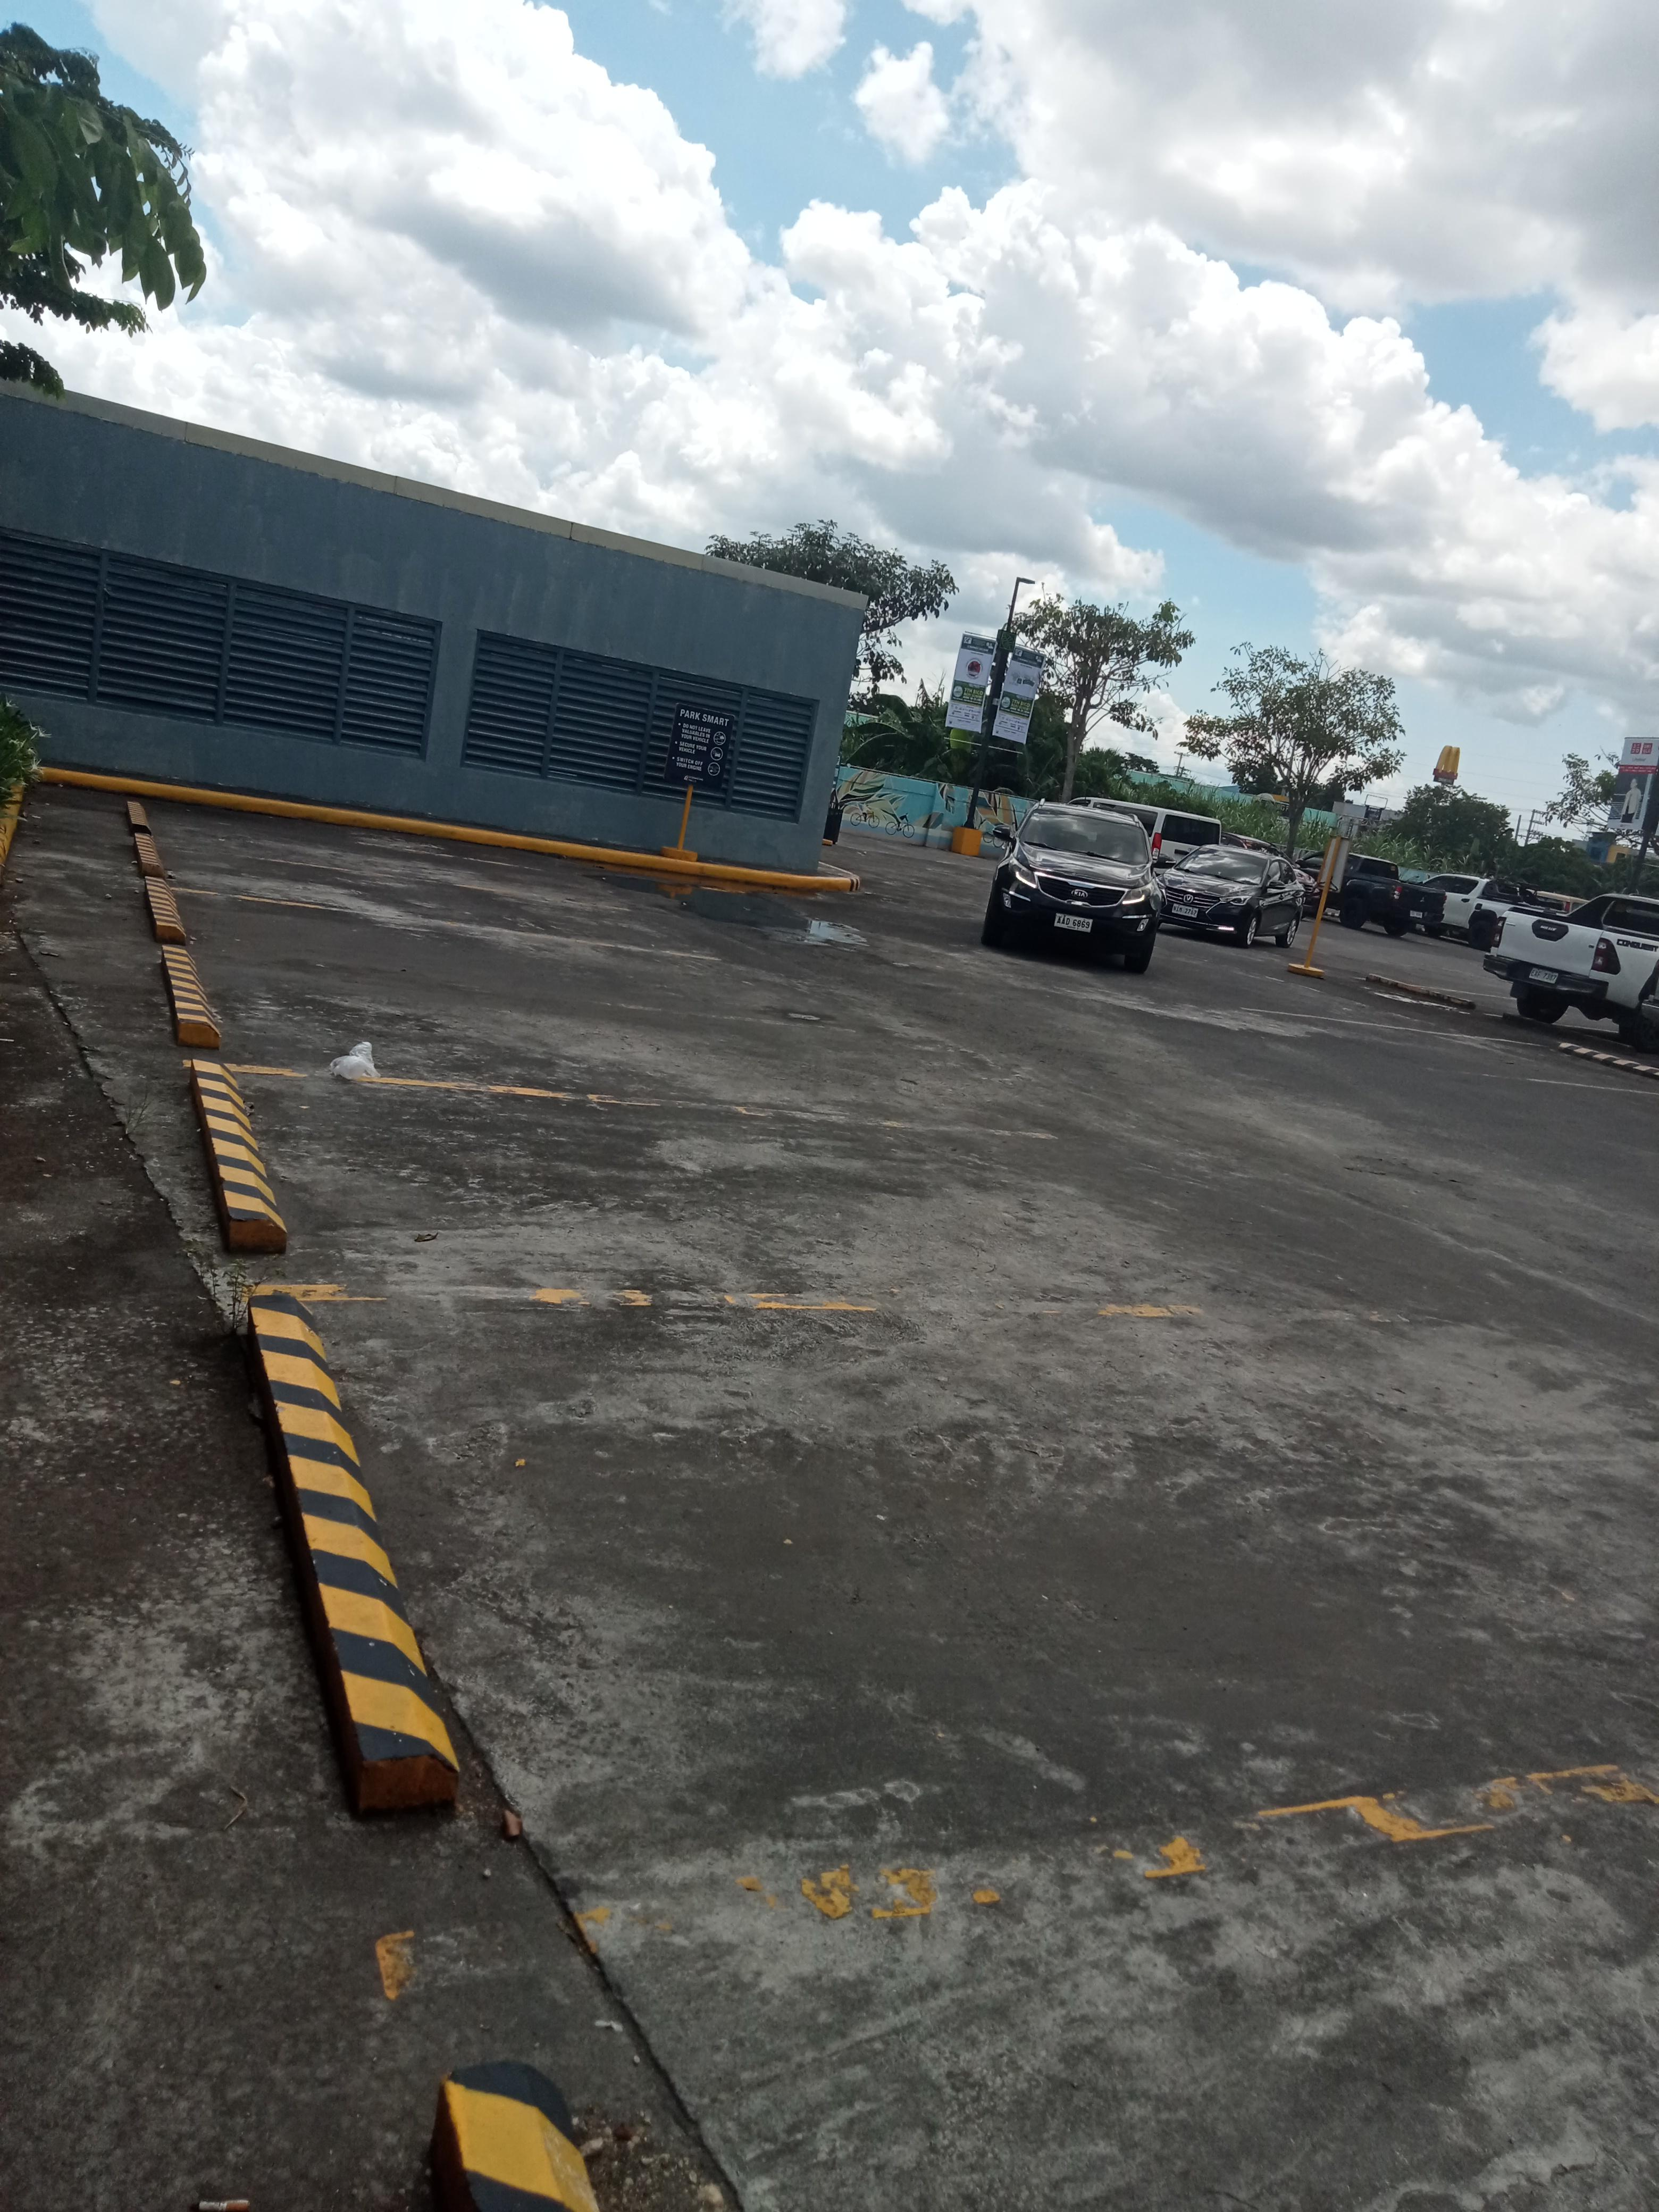vacant: (185, 1059, 1377, 1324), (134, 841, 721, 961)
